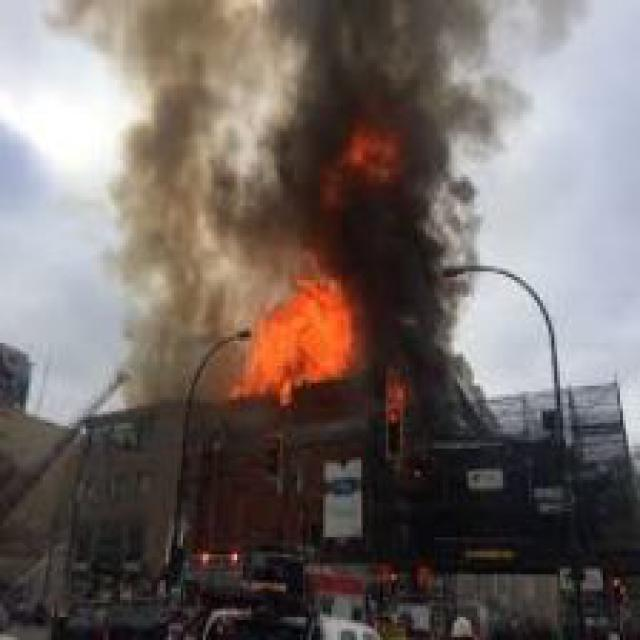fire: (225, 114, 426, 414)
